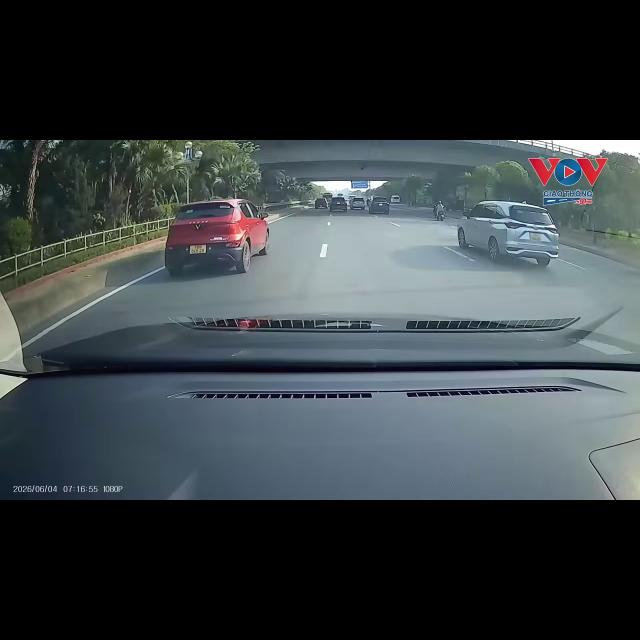car: (165, 199, 268, 275), (458, 201, 558, 266), (369, 197, 389, 214), (329, 197, 347, 211), (350, 197, 365, 209), (315, 198, 327, 208), (390, 195, 400, 203)
motorcycle: (437, 211, 444, 220)
